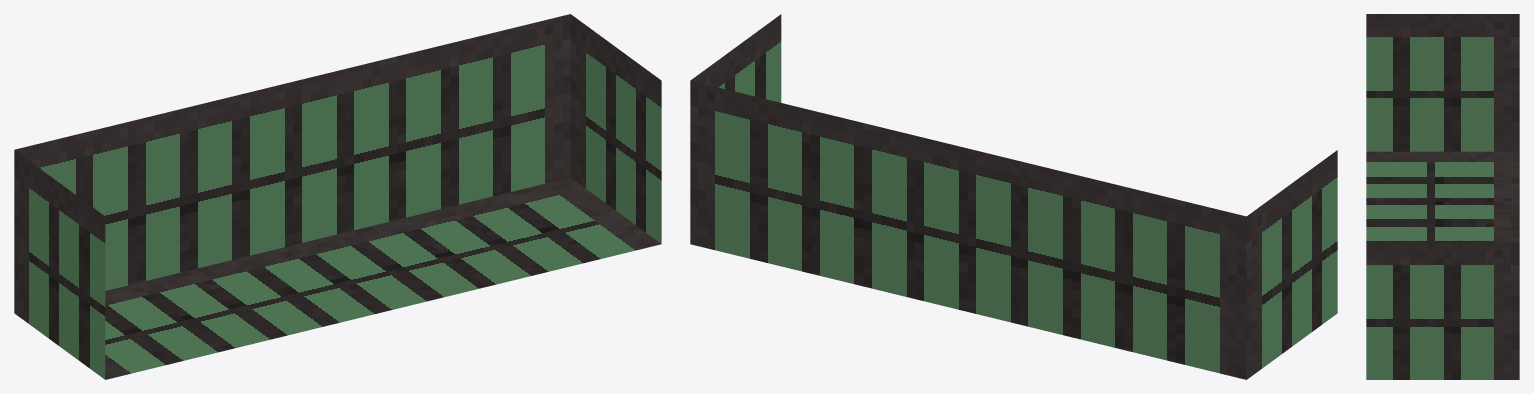
File: balcony_type_a.glb
3 views of the same model, side by side, from view 1: azimuth 30°, elevation 25°; view 2: azimuth 150°, elevation 25°; view 3: azimuth 270°, elevation 25° (orthographic). The views are drawn at different scales.
Visible parts, largest first — view 1: balcony-type-a; view 2: balcony-type-a; view 3: balcony-type-a.
Boxes of the visible parts, x1,y1,x2,y2 form: balcony-type-a: (14, 14, 661, 379); balcony-type-a: (690, 14, 1337, 379); balcony-type-a: (1366, 14, 1519, 379).
Bounding box in the file's own units: 1 × 0.2808 × 0.2837.
1 material, 1 textured.
